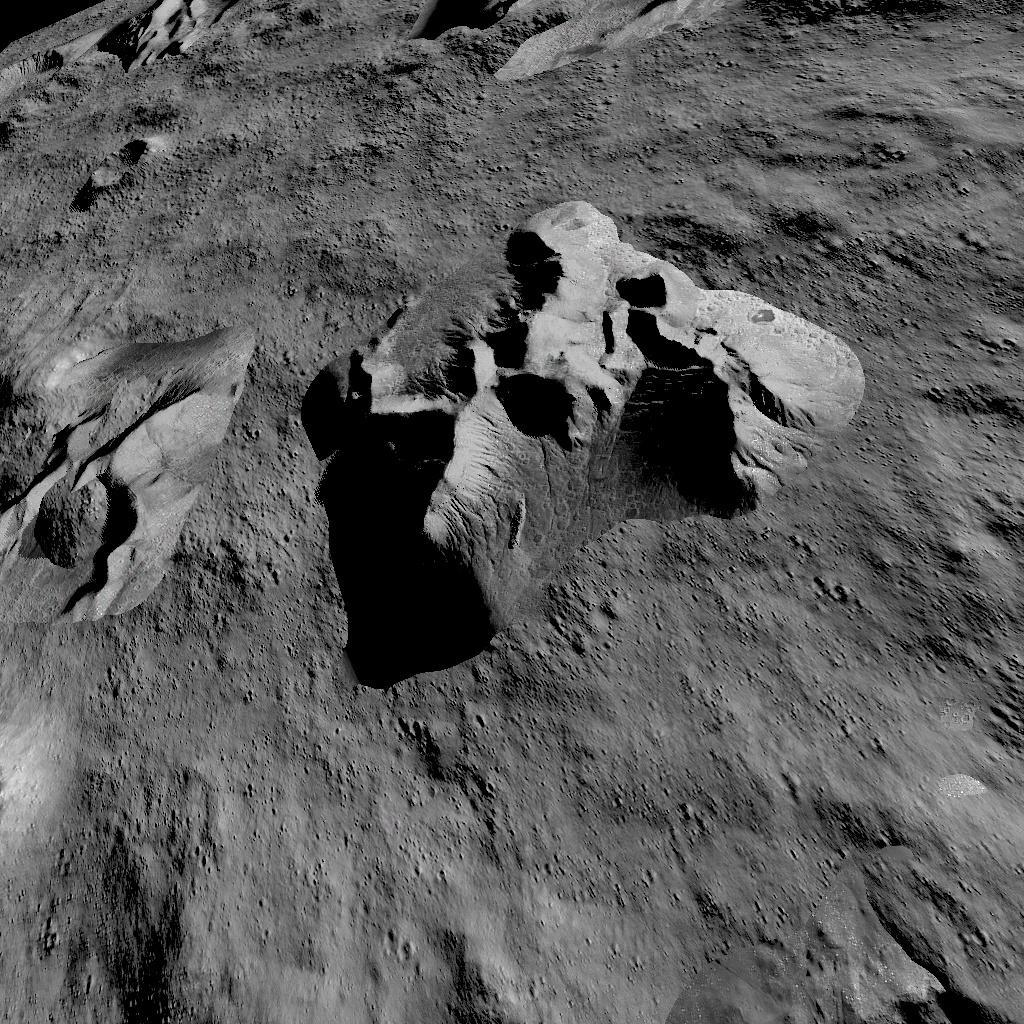Boulders: (299, 196, 864, 692), (5, 316, 256, 625), (0, 0, 291, 115), (423, 0, 722, 80)
Plan surface: (198, 704, 864, 928)
